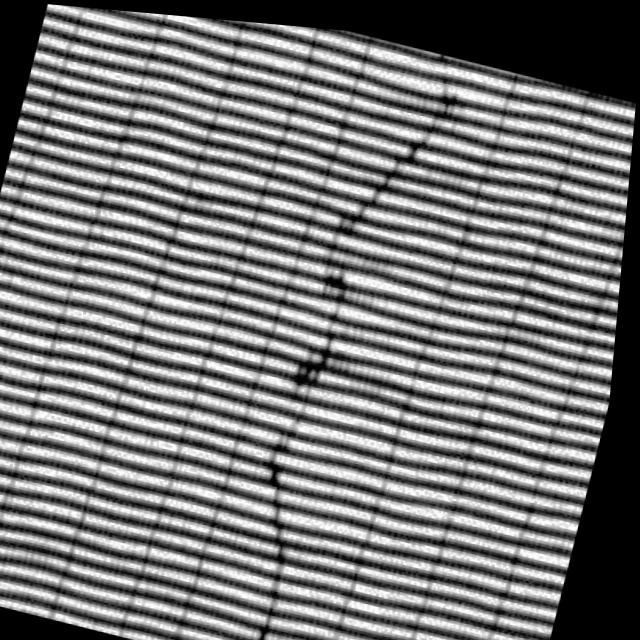Stitch: (159, 13, 513, 625)
